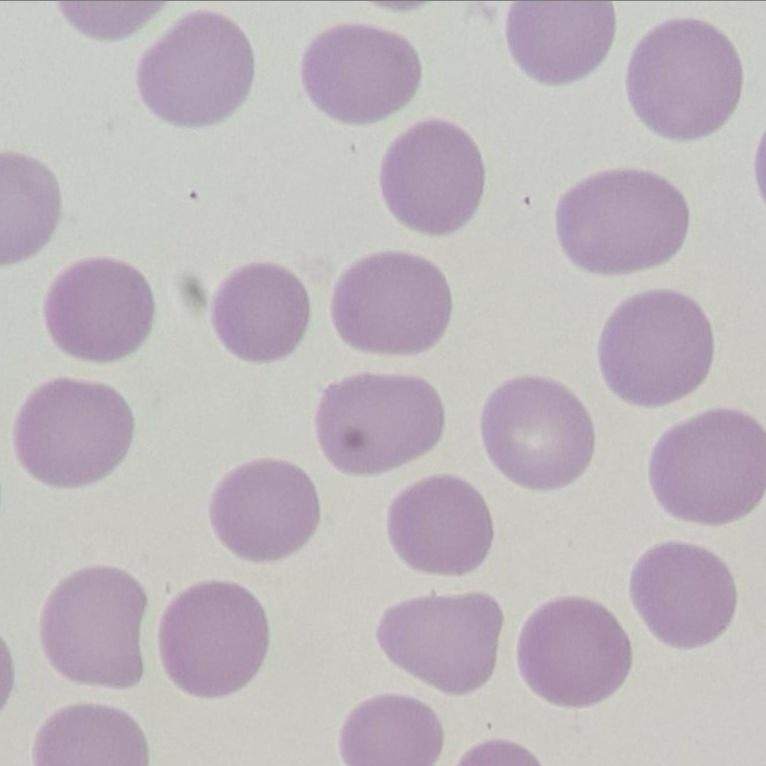Uninfected: (624, 19, 741, 141), (650, 409, 766, 528), (598, 289, 713, 409), (156, 581, 269, 703), (556, 169, 687, 274), (140, 11, 255, 126), (374, 589, 505, 689), (482, 379, 598, 489), (300, 25, 421, 128), (16, 377, 130, 485), (44, 569, 143, 693), (332, 253, 451, 356), (42, 257, 151, 365), (518, 601, 631, 705), (320, 377, 446, 470), (212, 457, 322, 561), (630, 543, 735, 648), (382, 125, 483, 230), (210, 263, 313, 358), (392, 477, 491, 574), (508, 0, 618, 85), (336, 691, 437, 766)
